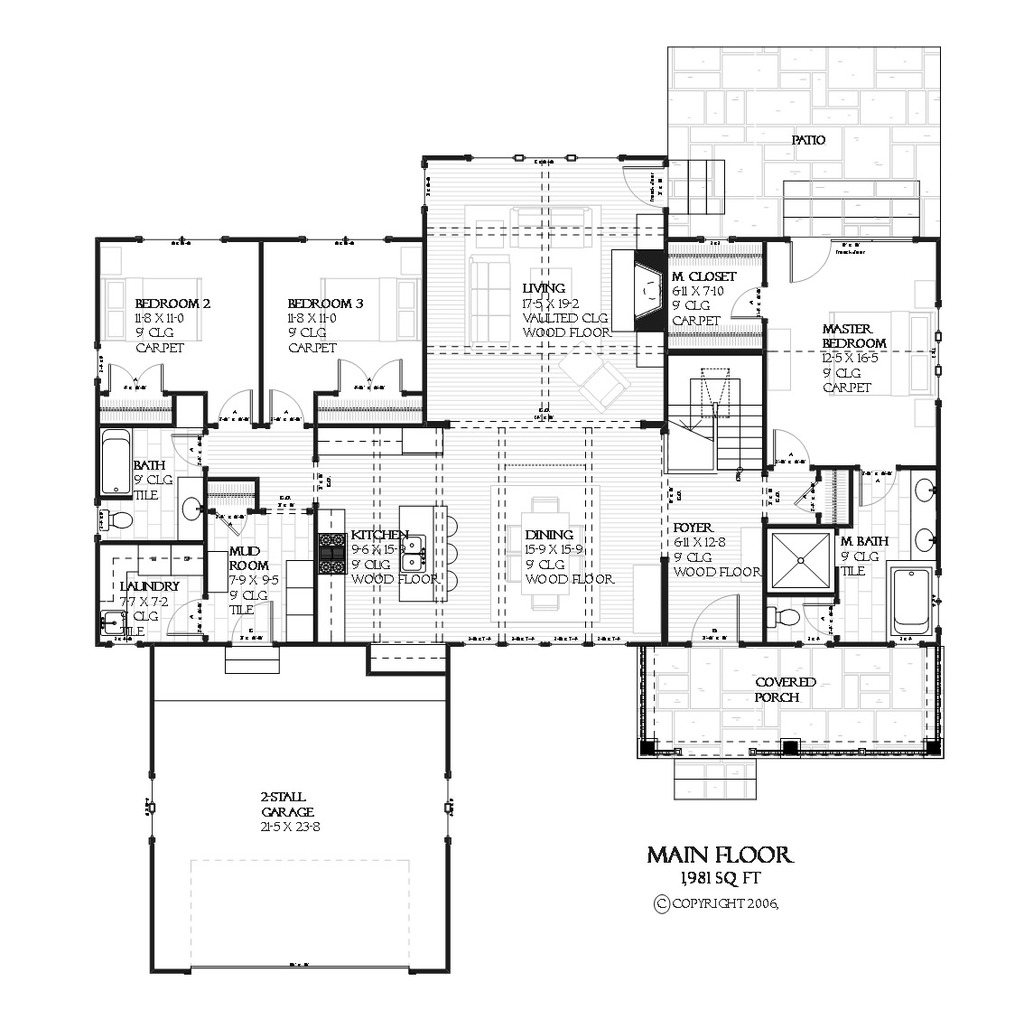bed: (822, 306, 941, 406), (305, 269, 422, 345), (106, 275, 211, 351)
dining_table: (506, 489, 603, 617)
door: (223, 601, 286, 670), (327, 355, 420, 401), (786, 231, 841, 297), (681, 592, 747, 642), (97, 358, 180, 395), (620, 159, 678, 208), (159, 597, 213, 644), (163, 420, 209, 472), (855, 465, 900, 512), (263, 389, 308, 430), (205, 390, 256, 423), (730, 289, 770, 323), (775, 428, 814, 461)
kitchen_bar: (383, 487, 463, 612)
large_sink: (97, 498, 148, 544), (764, 600, 798, 637)
large_sofa: (456, 245, 527, 361), (516, 197, 608, 250)
small_sink: (169, 470, 217, 545), (905, 464, 941, 559)
stairs: (673, 350, 772, 483)
tub: (881, 556, 941, 644), (102, 425, 136, 500)
twin_sink: (397, 528, 431, 584)
window: (466, 145, 606, 165), (428, 772, 466, 845), (142, 770, 169, 850), (141, 233, 234, 247), (303, 234, 392, 244)
